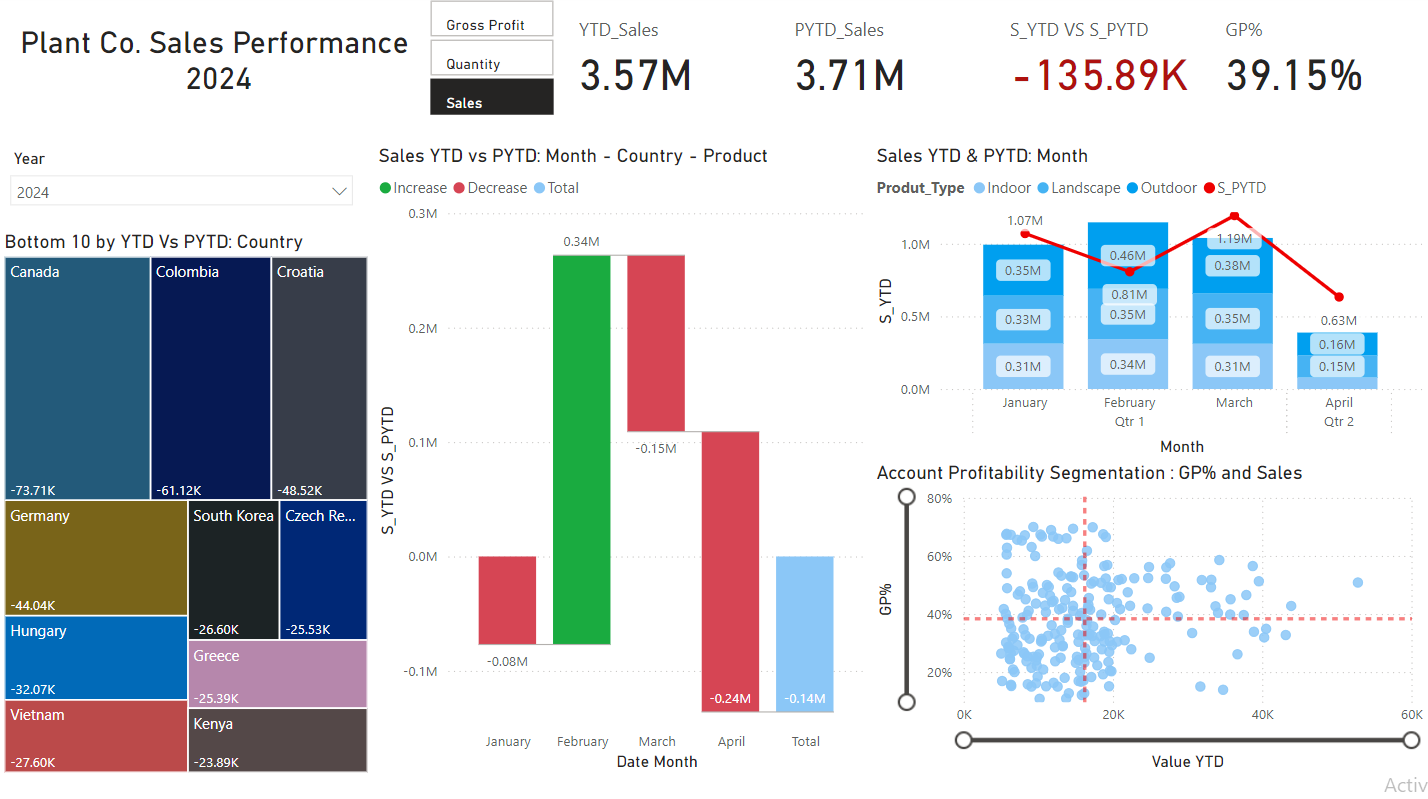

The dashboard page shown, as its layout file describes it:
{"tool":"powerbi","page":{"name":"Performance Report","canvas":[1280,720],"ordinal":0},"visuals":[{"type":"cardVisual","fields":{"Data":["__Measures.YTD_Sales","__Measures.PYTD_Sales","__Measures.S_YTD VS S_PYTD","__Measures.GP%"]},"box":[502.4,0,777.6,112],"z":0},{"type":"slicer","fields":{"Values":["Dim_Date.Date.Variation.Date Hierarchy.Year"]},"box":[0,133.3,327.5,76.8],"z":1000},{"type":"treemap","title":"Bottom 10 by YTD Vs PYTD: Country","fields":{"Group":["Dim_Accounts.country"],"Values":["__Measures.S_YTD VS S_PYTD"]},"box":[0,210.1,334.9,490.7],"z":2000},{"type":"advancedSlicerVisual","fields":{"Values":["Slc_Values.Values"]},"box":[381.9,0,120.5,112],"z":3000},{"type":"waterfallChart","fields":{"Y":["__Measures.S_YTD VS S_PYTD"],"Category":["Dim_Date.Date.Variation.Date Hierarchy.Month","Dim_Accounts.country"]},"box":[334.9,133.3,445.9,566.4],"z":4000},{"type":"lineStackedColumnComboChart","fields":{"Y":["__Measures.S_YTD"],"Category":["Dim_Date.Date.Variation.Date Hierarchy.Quarter","Dim_Date.Date.Variation.Date Hierarchy.Month"],"Y2":["__Measures.S_PYTD"],"Series":["Dim_Product.Produt_Type"]},"box":[780.8,133.3,499.2,283.7],"z":5000},{"type":"scatterChart","fields":{"Y":["__Measures.GP%"],"X":["__Measures.S_YTD"],"Category":["Dim_Accounts.Account"]},"box":[781,417,499,282],"z":6000},{"type":"card","fields":{"Values":["__Measures.-REPORT TITLE"]},"box":[0,0,386.1,112],"z":6001}]}

Visuals, with their boxes in screenshot pixels (x1, y1, x2, y2), scaled from the page's 1280x720 canvas onto the 1428x799 screenshot:
cardVisual - __Measures.YTD_Sales x __Measures.PYTD_Sales: bbox=(560, 0, 1427, 124)
slicer - Dim_Date.Date.Variation.Date Hierarchy.Year: bbox=(0, 148, 365, 233)
"Bottom 10 by YTD Vs PYTD: Country" treemap: bbox=(0, 233, 374, 778)
advancedSlicerVisual - Slc_Values.Values: bbox=(426, 0, 560, 124)
waterfallChart - __Measures.S_YTD VS S_PYTD x Dim_Date.Date.Variation.Date Hierarchy.Month: bbox=(374, 148, 871, 776)
lineStackedColumnComboChart - __Measures.S_YTD x Dim_Date.Date.Variation.Date Hierarchy.Quarter: bbox=(871, 148, 1427, 463)
scatterChart - __Measures.GP% x __Measures.S_YTD: bbox=(871, 463, 1427, 776)
card - __Measures.-REPORT TITLE: bbox=(0, 0, 431, 124)
